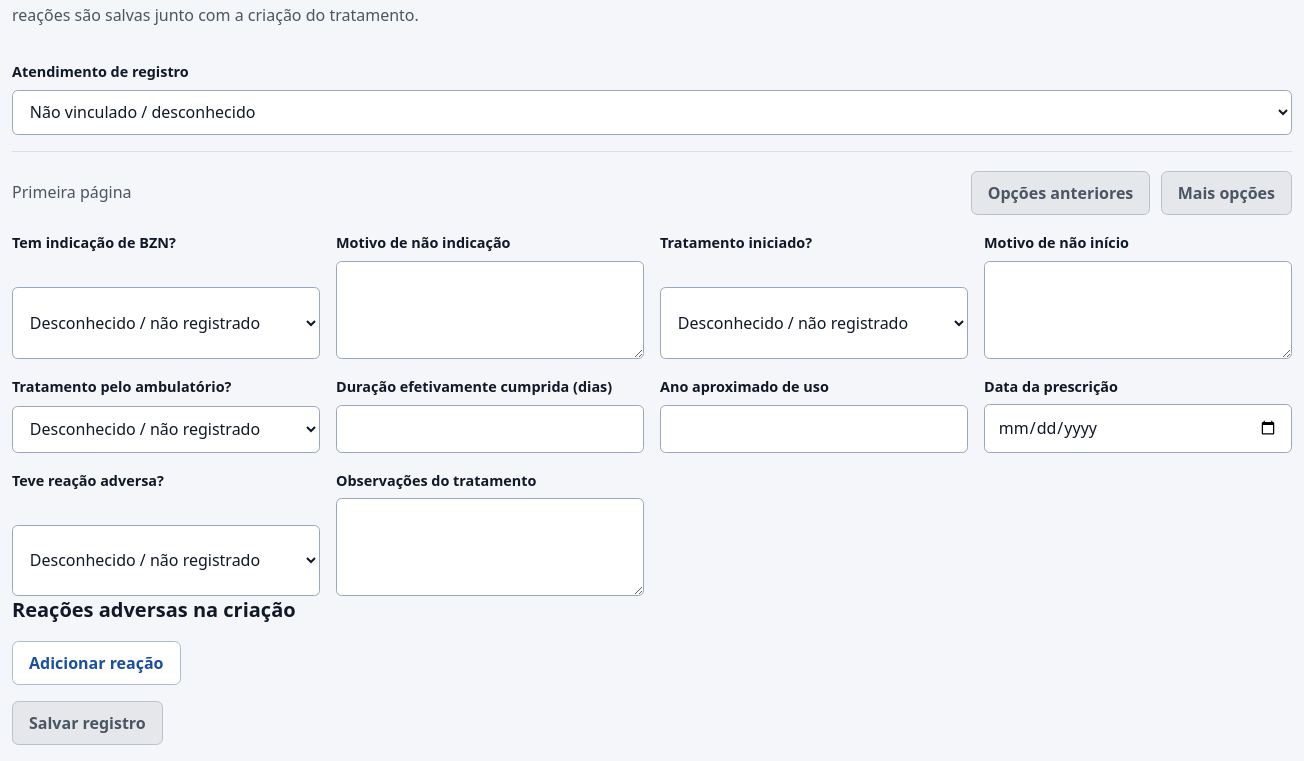
Test case: formulários de acompanhamento › falha de leitura após conflito BZN mantém o rascunho bloqueado e a reconsulta não escreve
The image size is (1304, 761).
(page scrolled)
Type "Rascunho após falha da leitura" into the text box labelled "Observações do tratamento" at (490, 547), box [336,498,644,596]
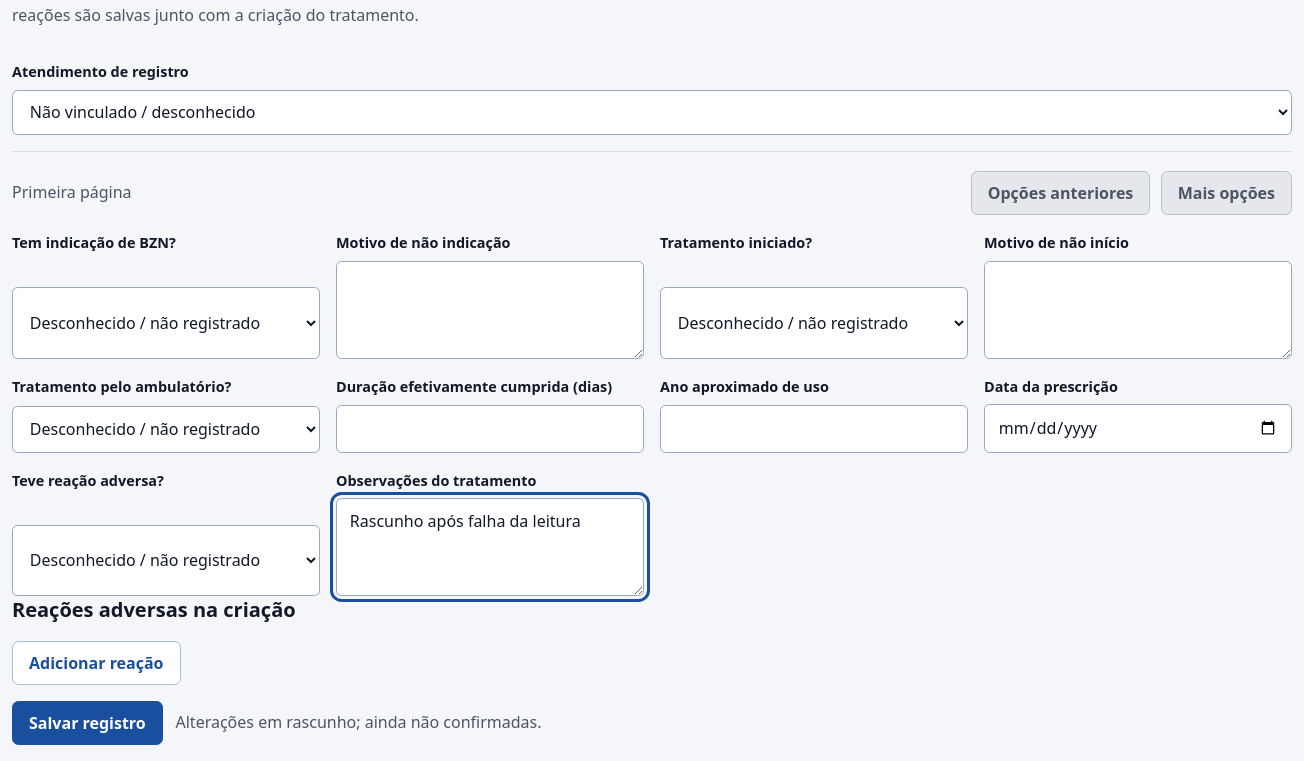
Click the button "Salvar registro" at (87, 723), box [12,701,163,745]
(page scrolled)
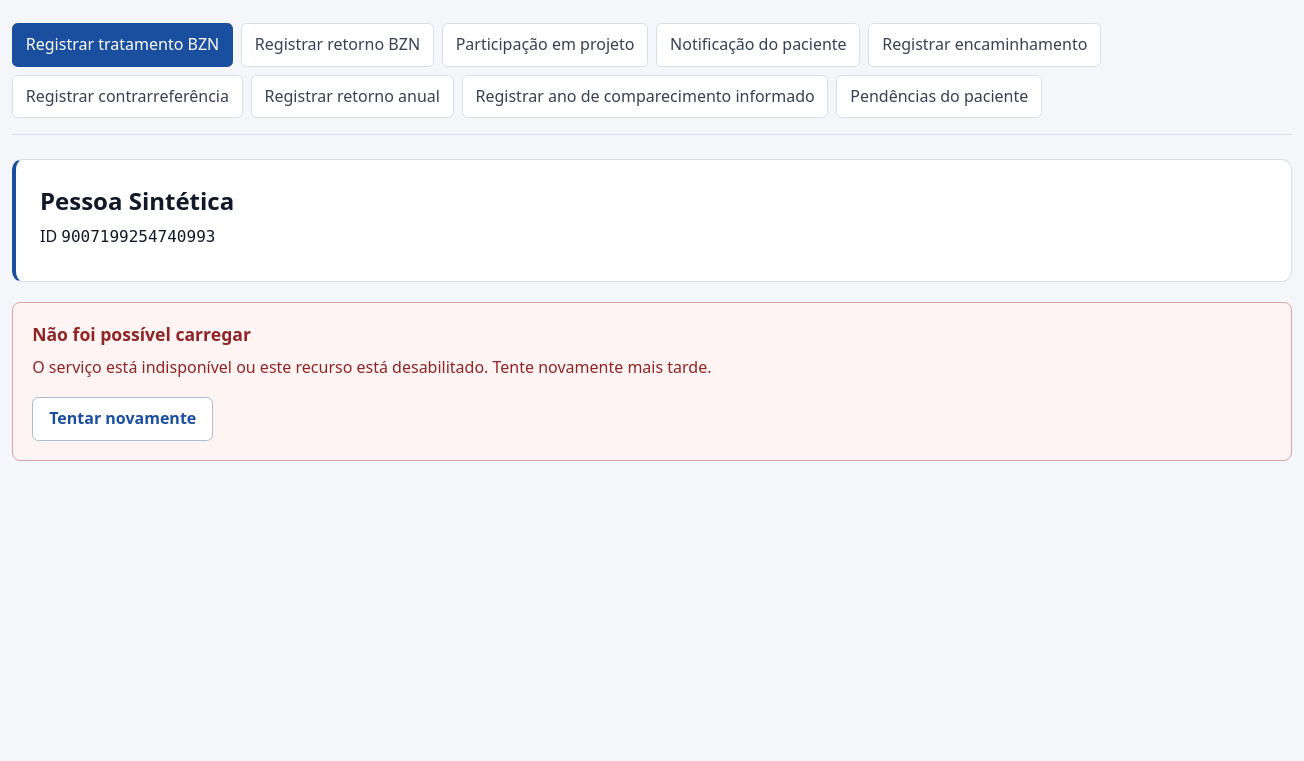
Expected: the text "O serviço está indisponível ou este recurso está desabilitado" is shown, [32,356,712,378]
Expected: the button "Salvar registro" is gone
Click the button "Tentar novamente" at (123, 419), box [32,397,213,441]
(page scrolled)
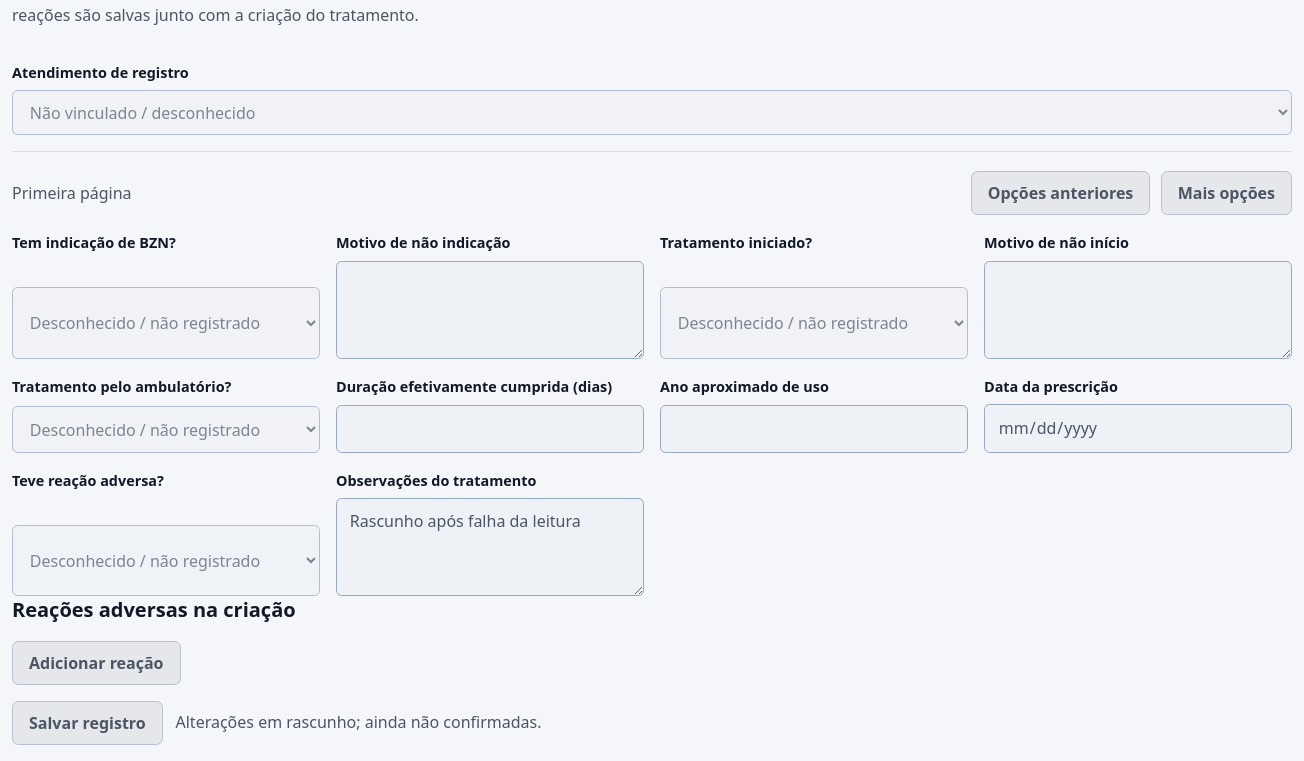
Expected: the text box labelled "Observações do tratamento" holds "Rascunho após falha da leitura", [336,498,644,596]
Expected: the button "Salvar registro" is disabled, [12,701,163,745]
